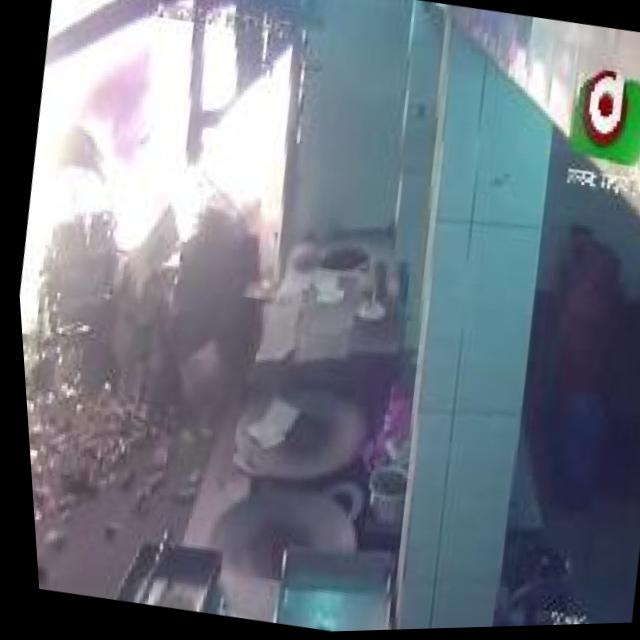fire: (0, 0, 192, 366), (72, 0, 306, 290)
